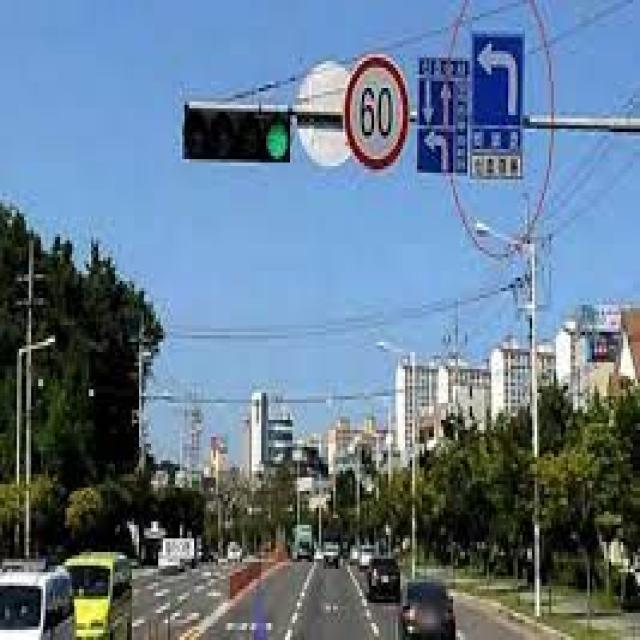Green Light: (260, 116, 294, 167)
